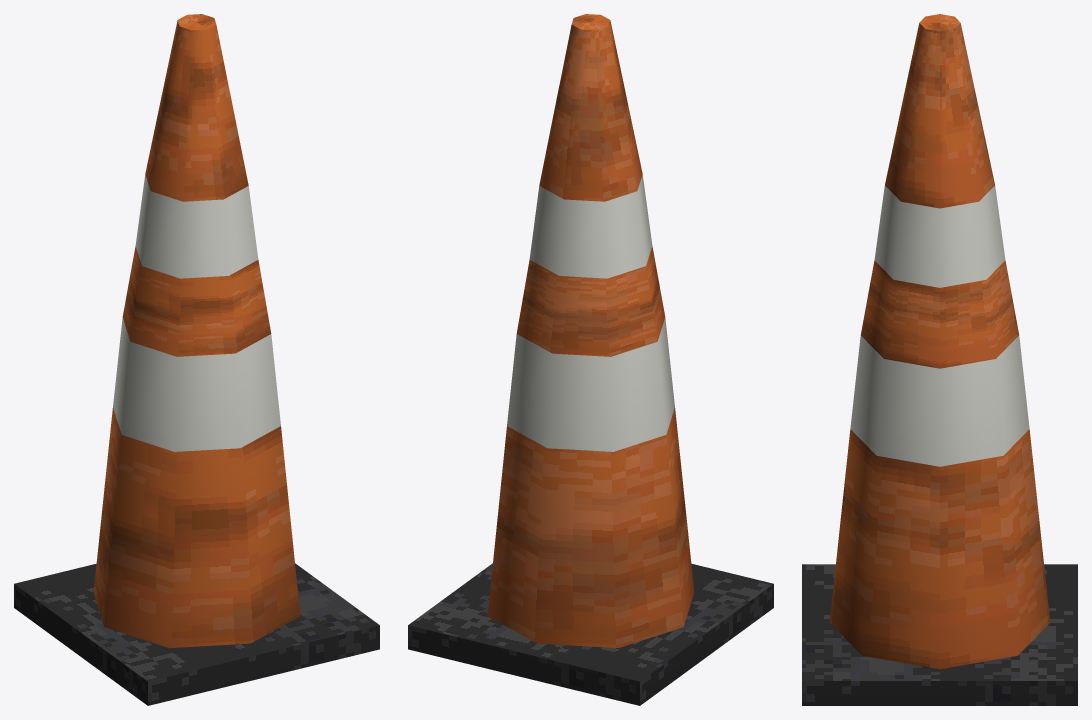
Rendered from cone_tall.glb.
3 views of the same model, side by side, from view 1: azimuth 30°, elevation 25°; view 2: azimuth 150°, elevation 25°; view 3: azimuth 270°, elevation 25° (orthographic). The views are drawn at different scales.
Visible parts, largest first — view 1: cone_tall; view 2: cone_tall; view 3: cone_tall.
Part boxes in pixels (left/top/right/bottom): cone_tall: left=14, top=14, right=379, bottom=705; cone_tall: left=408, top=14, right=773, bottom=705; cone_tall: left=802, top=14, right=1077, bottom=705.
Bounding box in the file's own units: 0.4 × 1 × 0.4.
Materials: 1 (1 with a texture image).
